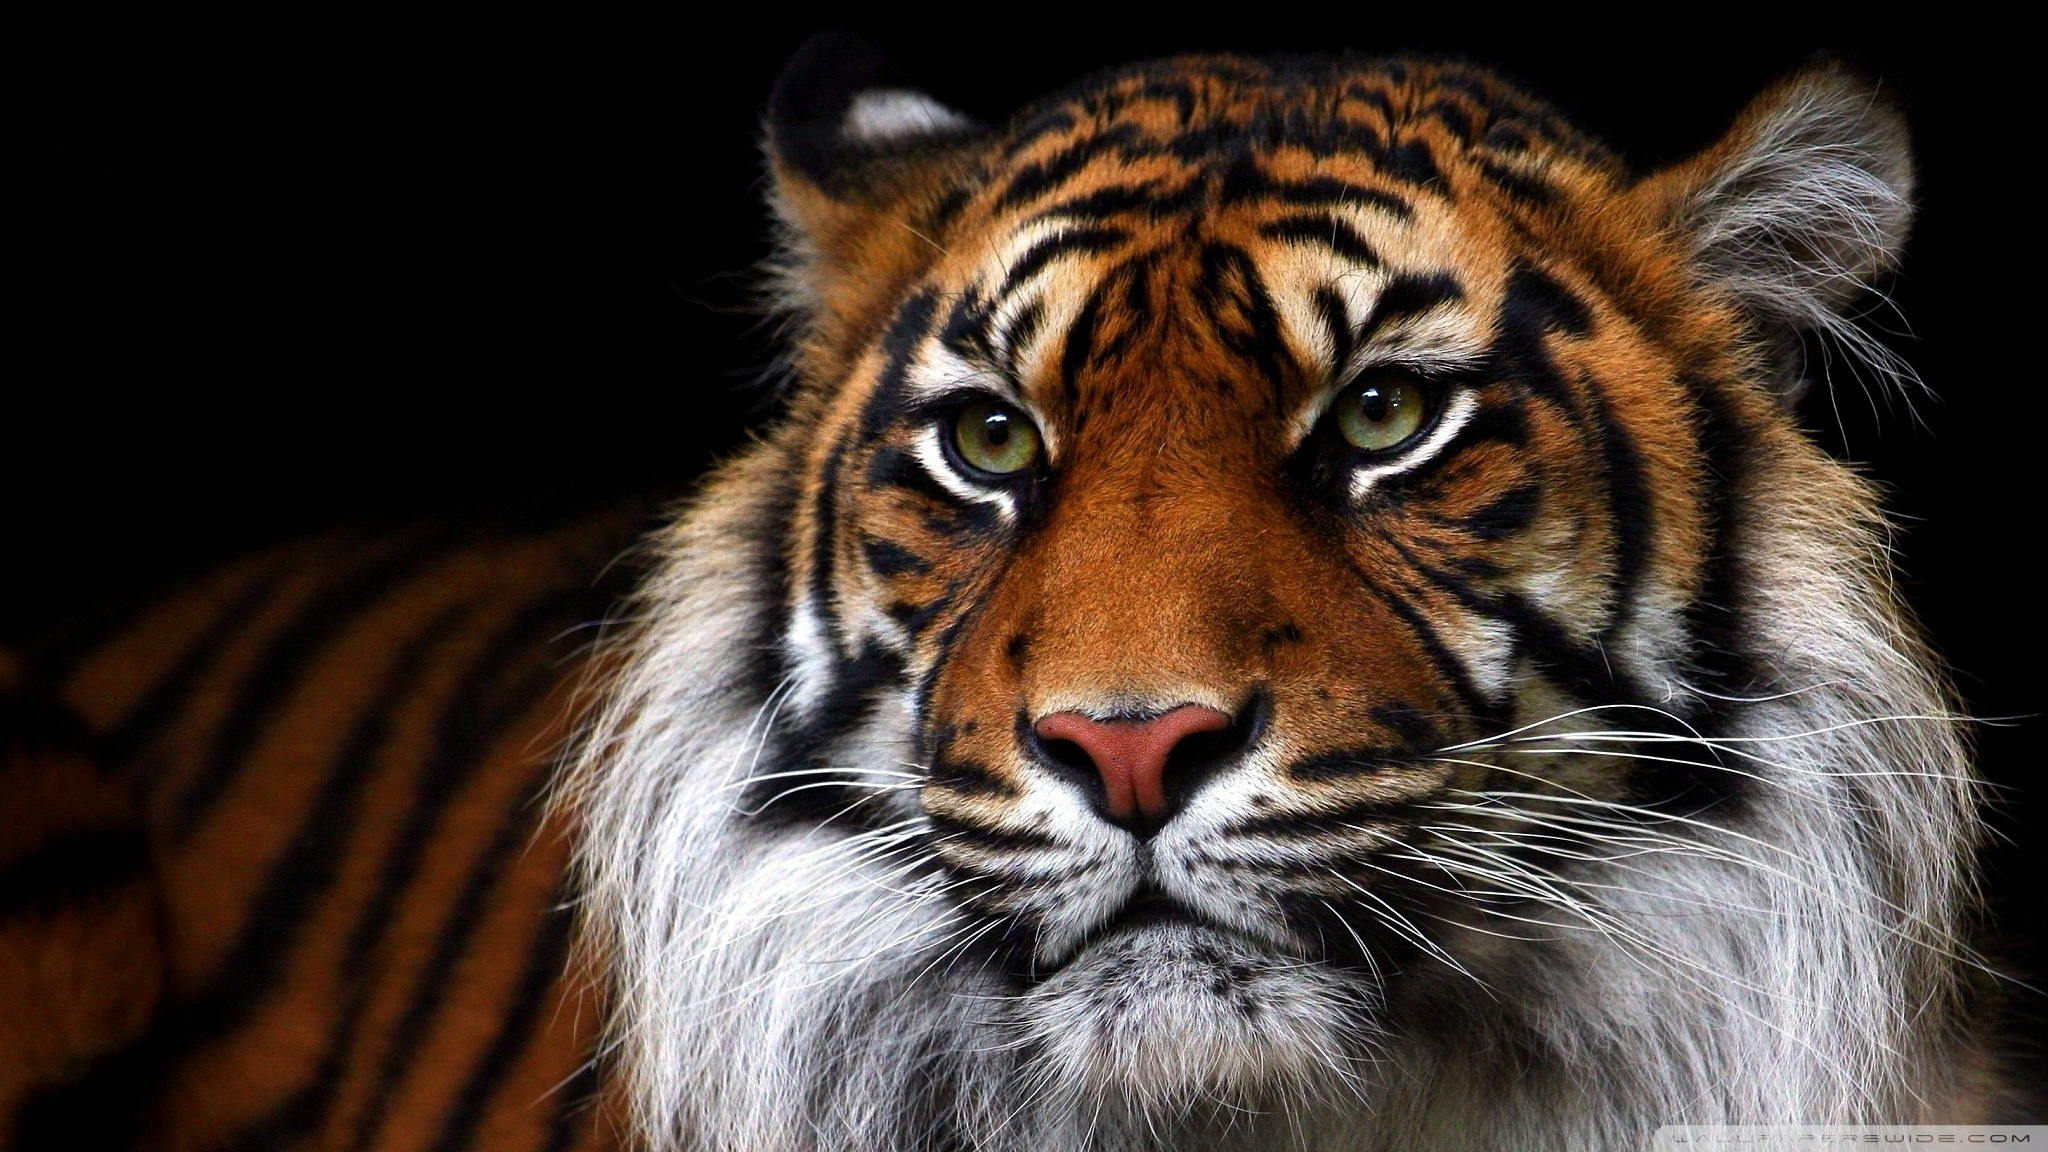tiger: (338, 27, 2047, 1120)
